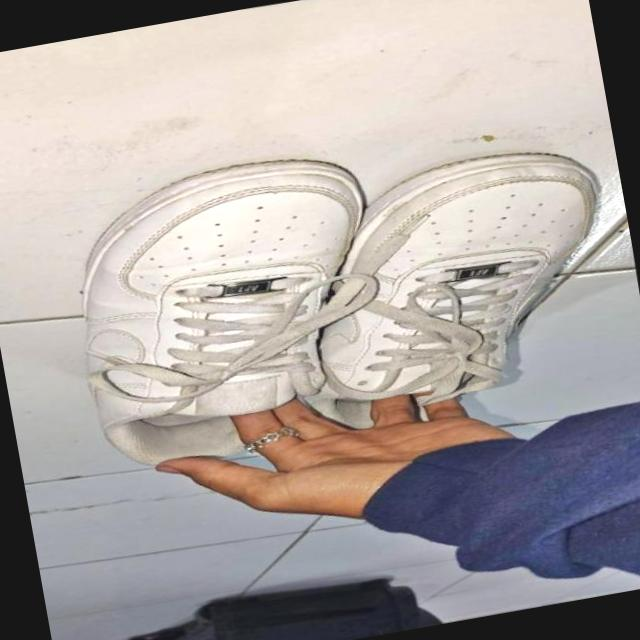nike_fake_airforce: (39, 134, 408, 495), (234, 132, 636, 448)
